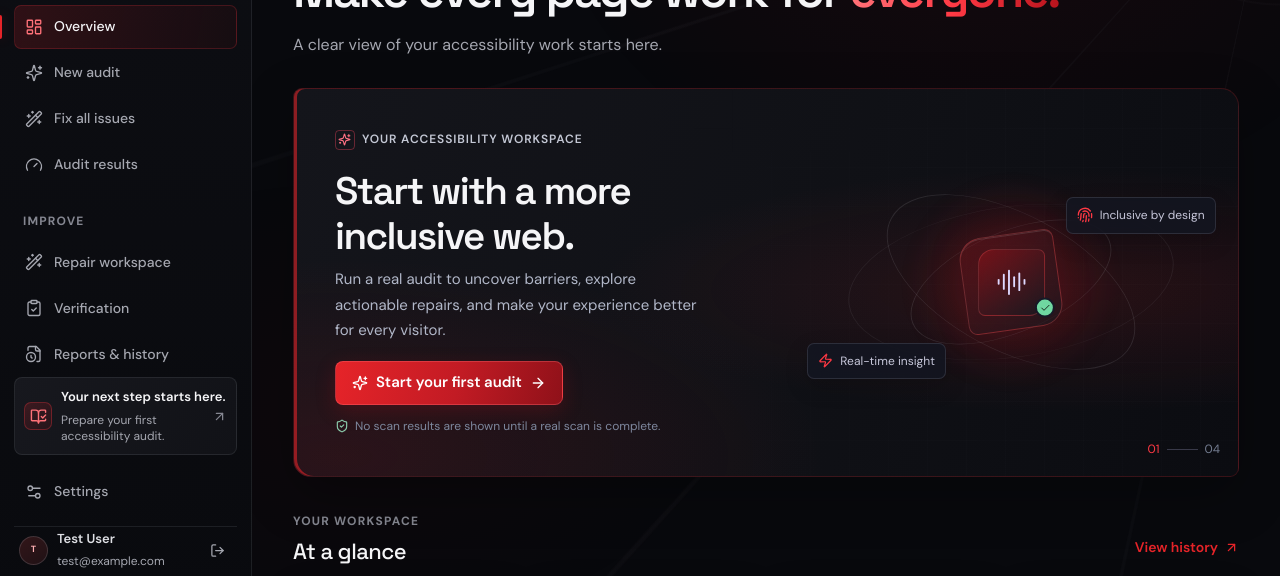
Scenario: AccessZ audit workflow › cancels a pending scan and reports that no result was saved
Step 1. Click the link "New audit" → (73, 72), box [25,63,120,82]
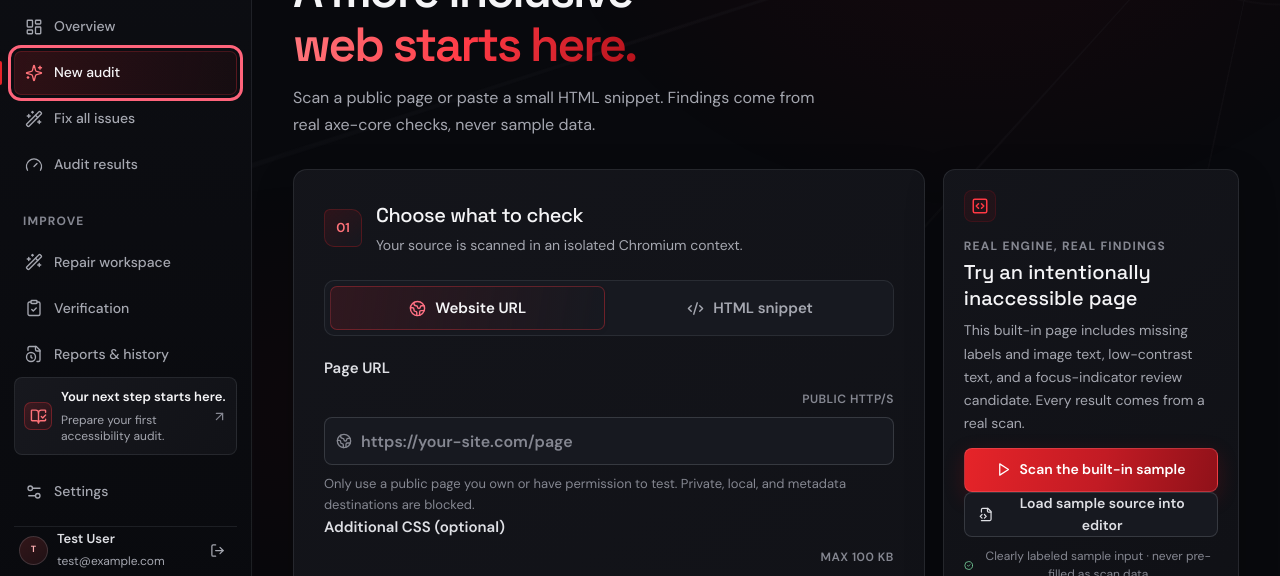
Step 2. Click the button "Scan the built-in sample" → (1091, 470), box [964,448,1218,492]
(page scrolled)
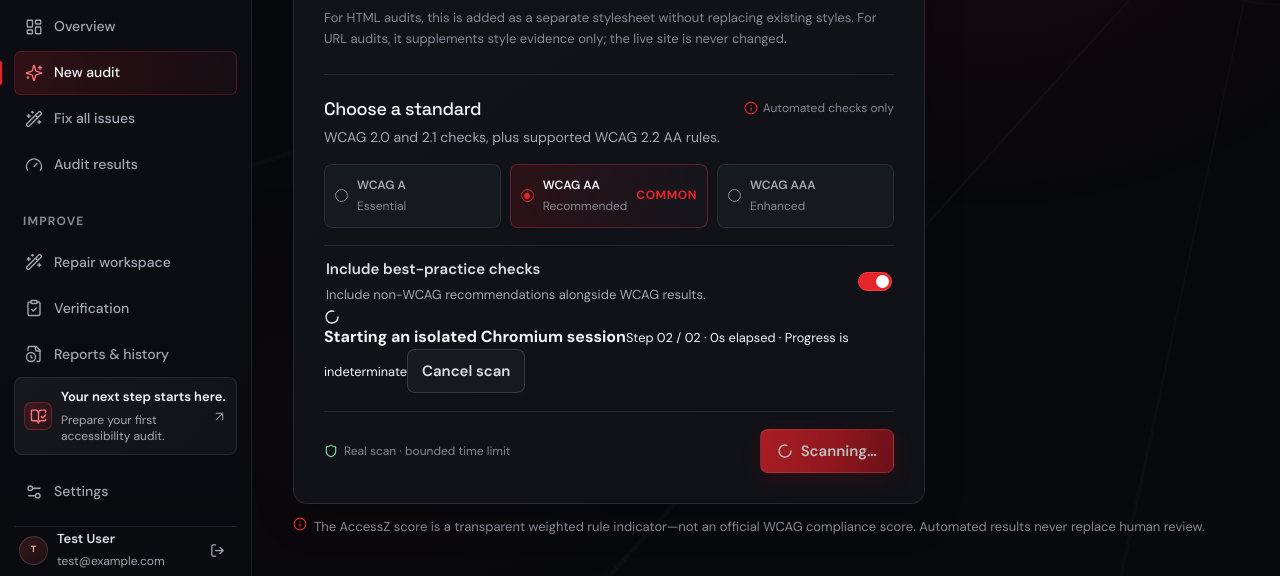
Step 3. Click the button "Cancel scan" → (466, 371), box [407,349,525,393]
(page scrolled)
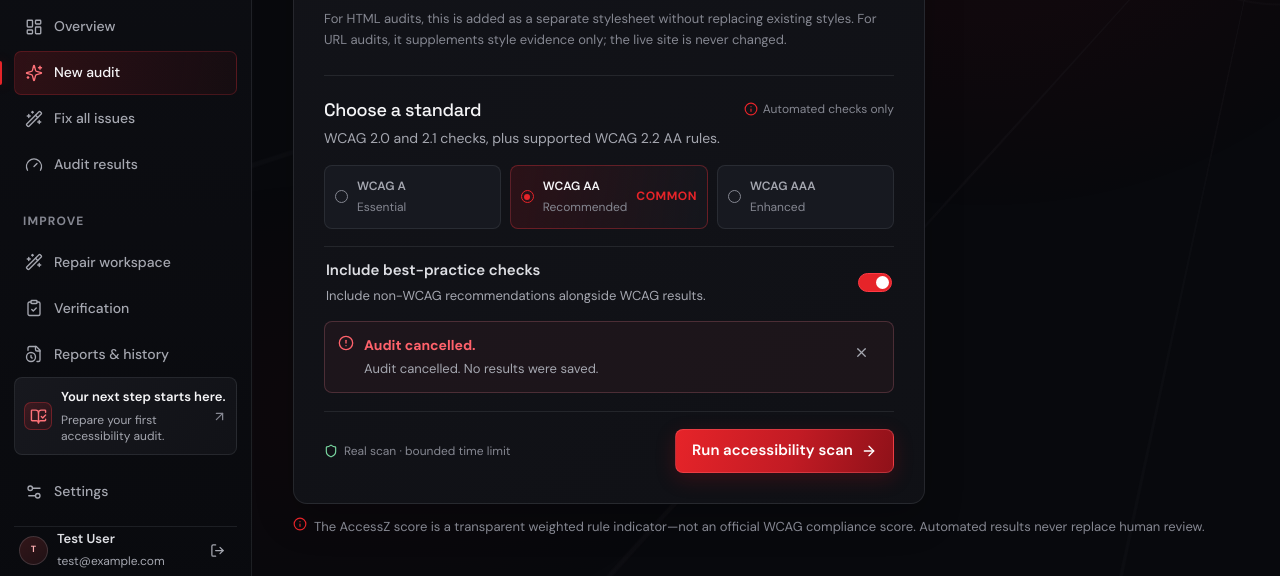
Result: the message "Audit cancelled. Audit cancelled. No results were saved." is shown at [324,321,894,393]
